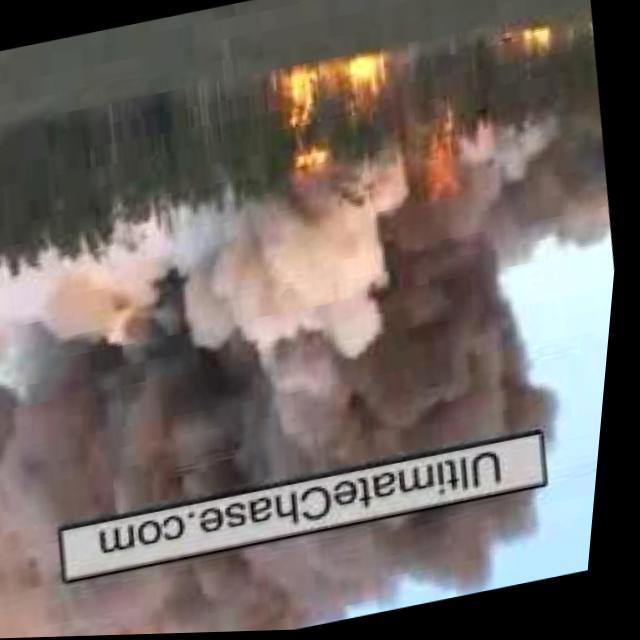fire: (267, 52, 389, 140), (412, 130, 476, 212), (287, 143, 341, 184), (508, 22, 552, 62)
